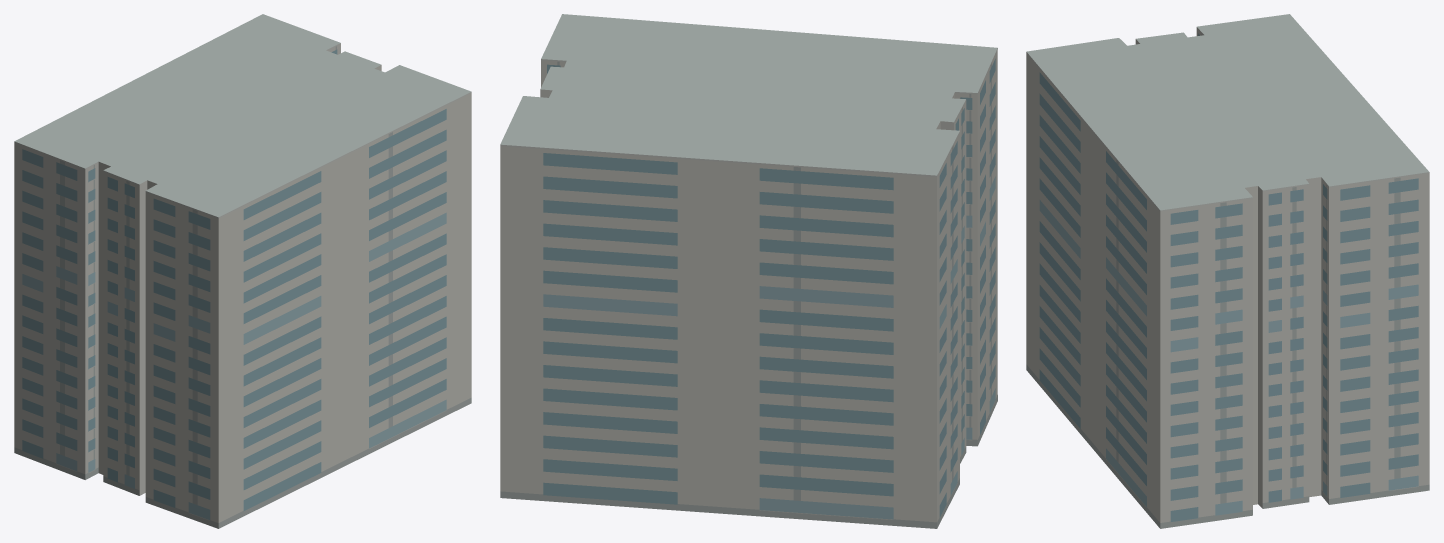
Rendered from survey-upis-32912084.glb.
3 renders of one model, left to right at view 1: azimuth 30°, elevation 25°; view 2: azimuth 150°, elevation 25°; view 3: azimuth 270°, elevation 25°, orthographic. The views are drawn at different scales.
Visible parts, largest first — view 1: survey-upis-32912084.tmp; view 2: survey-upis-32912084.tmp; view 3: survey-upis-32912084.tmp.
Part boxes in pixels (box(x1,y1,x2,y2)): survey-upis-32912084.tmp: box(14, 14, 471, 528); survey-upis-32912084.tmp: box(500, 14, 997, 528); survey-upis-32912084.tmp: box(1026, 14, 1429, 528).
Size of the model in its own units: 81.98 by 61.95 by 71.09.
